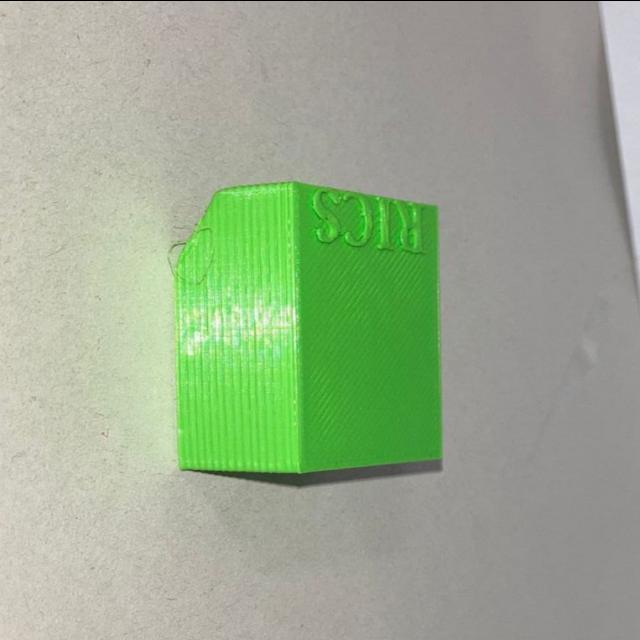Warping: (173, 189, 230, 275)
